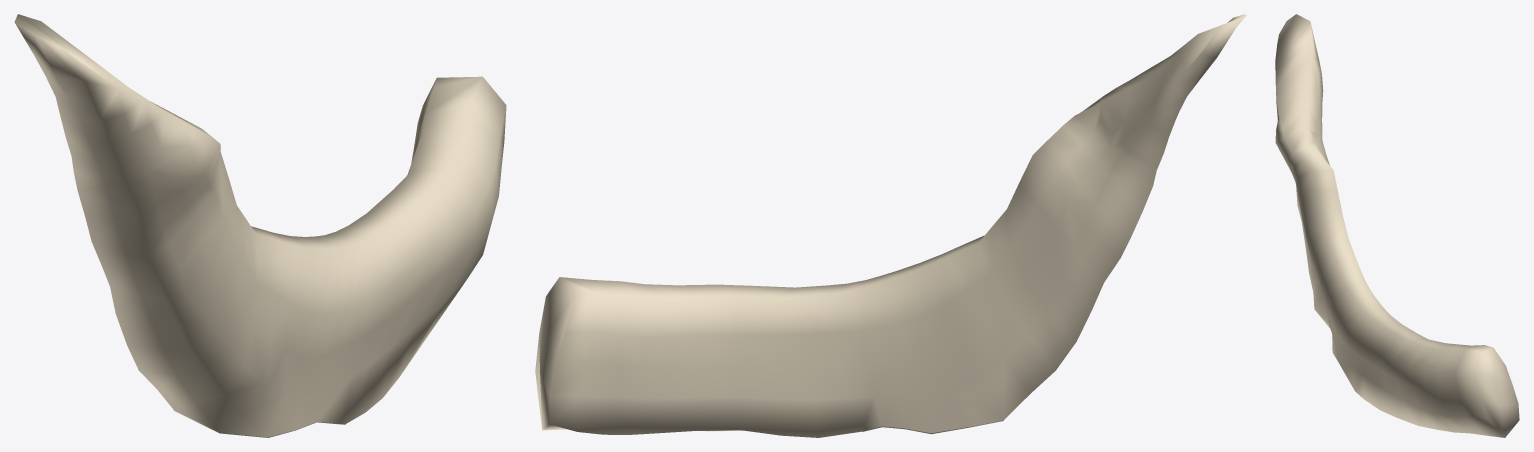
File: costal-cartilage-of-eighth-rib-l.glb
3 views of the same model, side by side, from view 1: azimuth 30°, elevation 25°; view 2: azimuth 150°, elevation 25°; view 3: azimuth 270°, elevation 25° (orthographic). The views are drawn at different scales.
Visible parts, largest first — view 1: Costal cartilage of eighth rib.l; view 2: Costal cartilage of eighth rib.l; view 3: Costal cartilage of eighth rib.l.
Part boxes in pixels (box(x1,y1,x2,y2)): Costal cartilage of eighth rib.l: box(14, 14, 506, 437); Costal cartilage of eighth rib.l: box(535, 14, 1246, 437); Costal cartilage of eighth rib.l: box(1275, 14, 1519, 437).
Bounding box in the file's own units: 0.0842 × 0.0656 × 0.0514.
